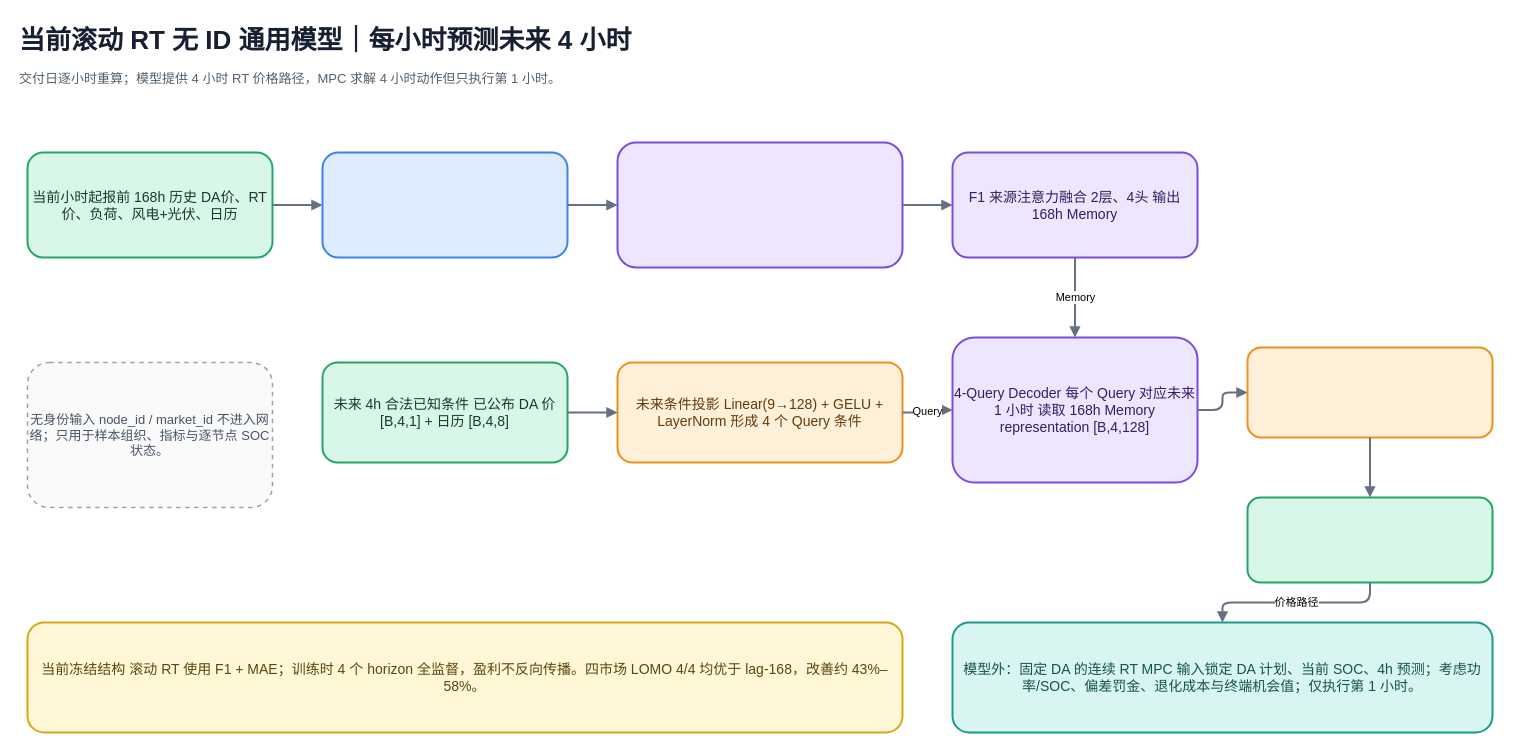
This 1534x750 diagram has some shape labels left out. Here are the shapes that lost their labels. From the top down, the centre of each, then its label:
At (x=444, y=204): "Context-Robust 归一化 只读历史窗口中位数 / MAD 不需要节点 scaler".
At (x=759, y=204): "5 条独立 StreamEncoder 价格/负荷/系统：2层 Transformer + RoPE 日历：MLP；d_model=128".
At (x=1369, y=392): "滚动 RT 价格头 Linear(128→1) 反归一化 + clamp".
At (x=1369, y=539): "p_RT[t:t+4] [B,4] 未来 4 小时 RT 价格预测".
